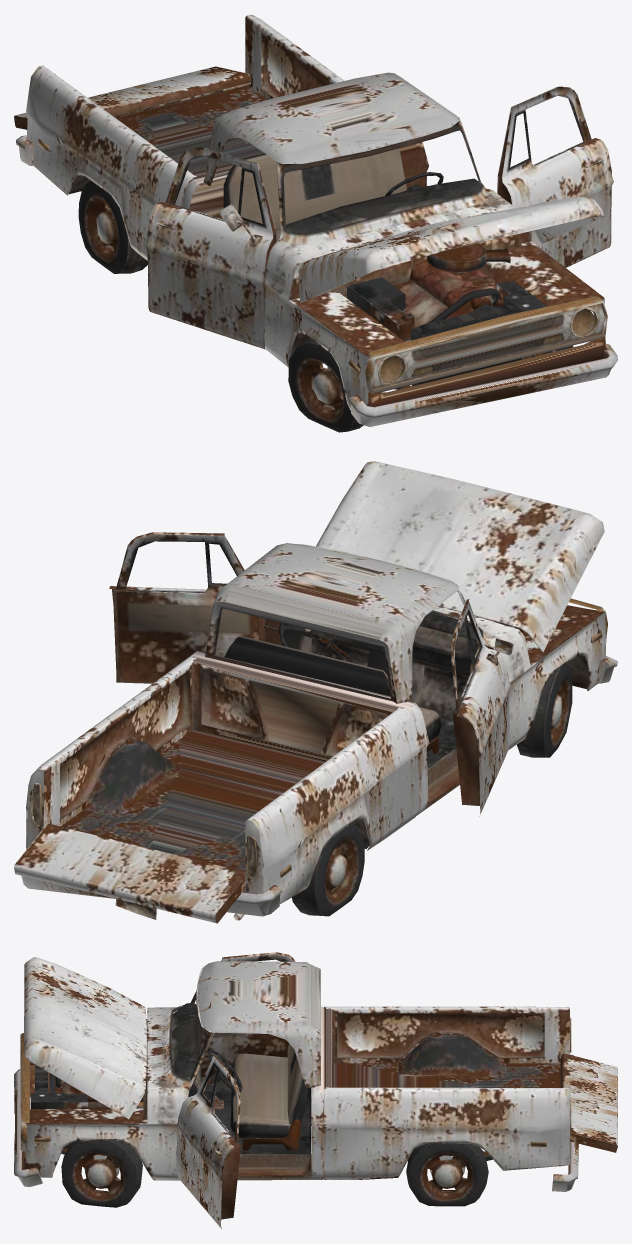
File: pickup_truck_b_dark_blue.glb
The picture shows the model from 3 angles, top to bottom: view 1: azimuth 30°, elevation 25°; view 2: azimuth 150°, elevation 25°; view 3: azimuth 270°, elevation 25°; orthographic projection. The views are drawn at different scales.
Visible parts, largest first — view 1: pickup_truck_b_LOD0; view 2: pickup_truck_b_LOD0; view 3: pickup_truck_b_LOD0.
Boxes of the visible parts, x1=… form: pickup_truck_b_LOD0: x1=14, y1=14, x2=617, y2=432; pickup_truck_b_LOD0: x1=14, y1=461, x2=617, y2=923; pickup_truck_b_LOD0: x1=14, y1=952, x2=617, y2=1228.
Size of the model in its own units: 4.03 by 2 by 6.34.
1 material, 1 textured.
